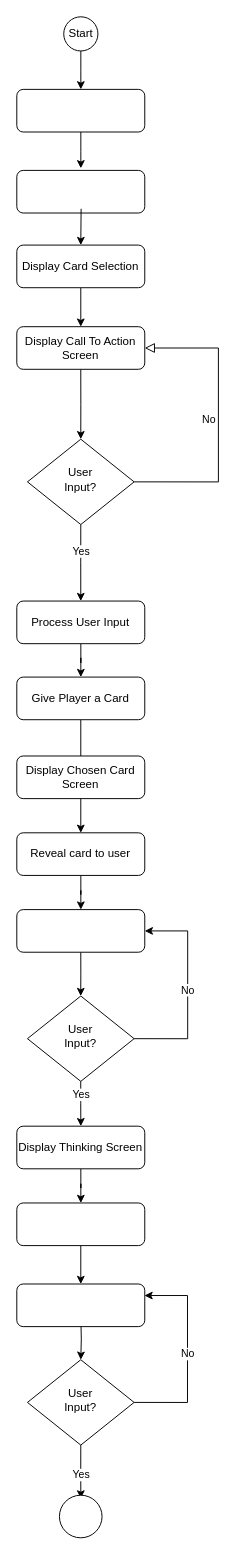
The diagram is 245 pixels wide and 1555 high, and some of its shapes have lost their labels. Each missing label, with the centre of its shape:
Display Final Results Screen: (x=80, y=1224)
Display Introduction Screen: (x=80, y=110)
Display Wait For Player Screen: (x=80, y=930)
Display wait for players final answer screen: (x=80, y=1305)
End: (x=80, y=1516)
Generate Poker Deck: (x=80, y=191)
